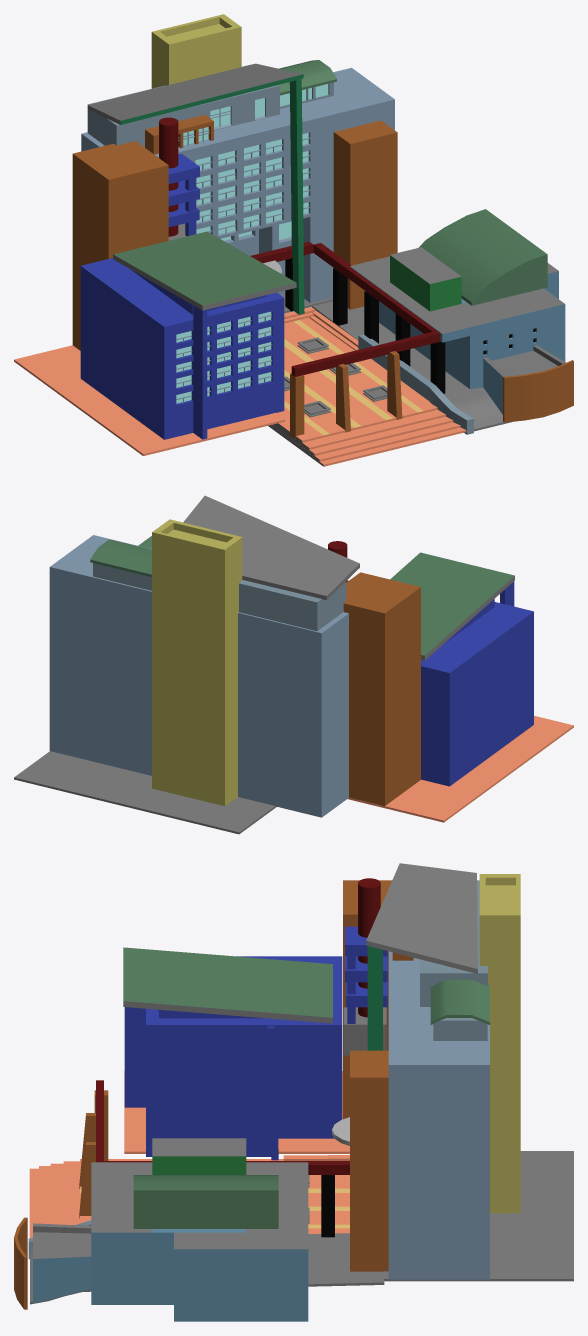
The model's file is SLIIT3D1.obj.
3 views of the same model, one above another, from view 1: azimuth 30°, elevation 25°; view 2: azimuth 150°, elevation 25°; view 3: azimuth 270°, elevation 25° (orthographic). The views are drawn at different scales.
Parts seen in each view (by area): view 1: pCube170; view 2: pCube170; view 3: pCube170.
Part boxes in pixels (x1,y1,x2,y2): pCube170: (14,14,573,466); pCube170: (14,495,573,834); pCube170: (14,863,573,1321).
Bounding box in the file's own units: 53.55 × 32.17 × 50.79.
